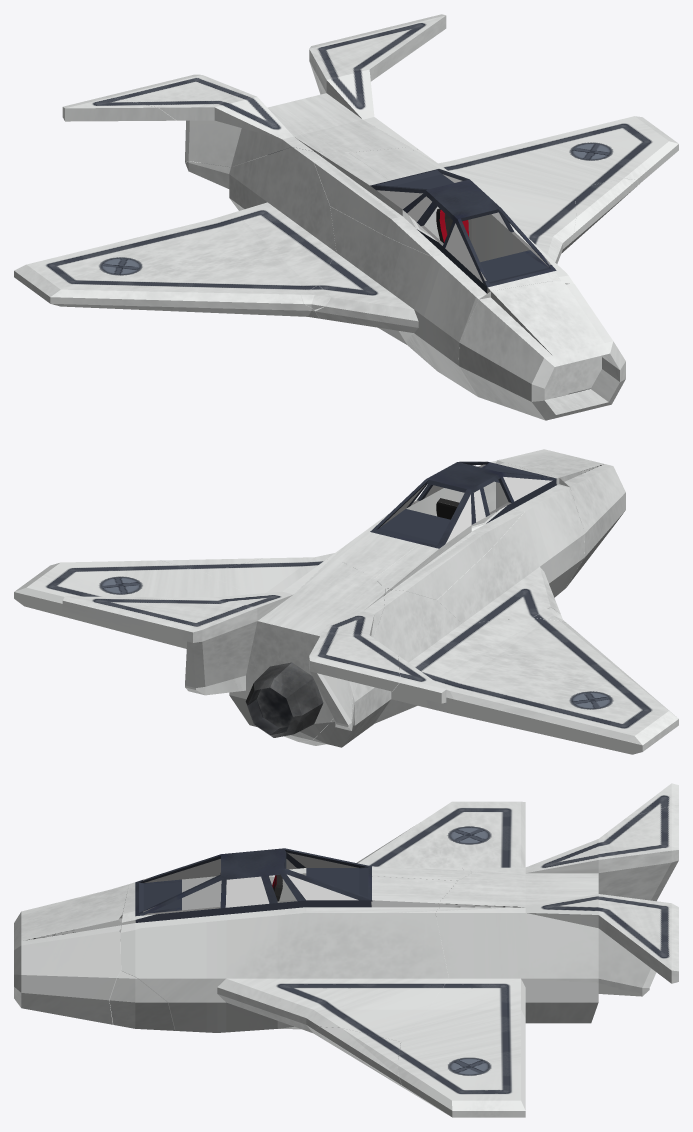
File: SSCInterceptor_Destruct.fbx
The picture shows the model from 3 angles, top to bottom: view 1: azimuth 30°, elevation 25°; view 2: azimuth 150°, elevation 25°; view 3: azimuth 270°, elevation 25°; orthographic projection.
Visible parts, largest first — view 1: SSCInterceptorBody_Frag.004, SSCInterceptorBody_Frag.002, SSCInterceptorBody_Frag.001, SSCInterceptorBody_Frag.006, SSCInterceptorCockpit_Frag.001, SSCInterceptorBody_Frag.000, SSCInterceptorBody_Frag.007, SSCInterceptorBody_Frag.008; view 2: SSCInterceptorBody_Frag.004, SSCInterceptorBody_Frag.002, SSCInterceptorBody_Frag.001, SSCInterceptorCockpit_Frag.001, SSCInterceptorBody_Frag.006, SSCInterceptorBody_Frag.000, SSCInterceptorBody_Frag.007, SSCInterceptorBody_Frag.008; view 3: SSCInterceptorBody_Frag.004, SSCInterceptorBody_Frag.001, SSCInterceptorBody_Frag.006, SSCInterceptorCockpit_Frag.001, SSCInterceptorBody_Frag.002, SSCInterceptorBody_Frag.003, SSCInterceptorBody_Frag.008, SSCInterceptorBody_Frag.000, SSCInterceptorBody_Frag.007.
Part boxes in pixels (x1,y1,x2,y2): SSCInterceptorBody_Frag.004: (105,14,678,235); SSCInterceptorBody_Frag.002: (14,147,336,318); SSCInterceptorBody_Frag.001: (315,147,576,395); SSCInterceptorBody_Frag.006: (458,281,625,420); SSCInterceptorCockpit_Frag.001: (370,169,556,287); SSCInterceptorBody_Frag.000: (314,152,443,256); SSCInterceptorBody_Frag.007: (62,96,175,121); SSCInterceptorBody_Frag.008: (565,178,638,249); SSCInterceptorBody_Frag.004: (14,559,399,742); SSCInterceptorBody_Frag.002: (301,588,678,754); SSCInterceptorBody_Frag.001: (206,463,584,685); SSCInterceptorCockpit_Frag.001: (370,461,556,548); SSCInterceptorBody_Frag.006: (490,449,625,587); SSCInterceptorBody_Frag.000: (375,509,523,599); SSCInterceptorBody_Frag.007: (392,656,446,703); SSCInterceptorBody_Frag.008: (160,558,262,572); SSCInterceptorBody_Frag.004: (397,806,678,1117); SSCInterceptorBody_Frag.001: (120,875,457,1058); SSCInterceptorBody_Frag.006: (14,884,128,1024); SSCInterceptorCockpit_Frag.001: (135,848,371,916); SSCInterceptorBody_Frag.002: (357,801,525,1014); SSCInterceptorBody_Frag.003: (109,971,174,1030); SSCInterceptorBody_Frag.008: (315,1027,404,1088); SSCInterceptorBody_Frag.000: (274,866,471,883); SSCInterceptorBody_Frag.007: (626,783,678,817).
Bounding box in the file's own units: 1000 × 237 × 910.
